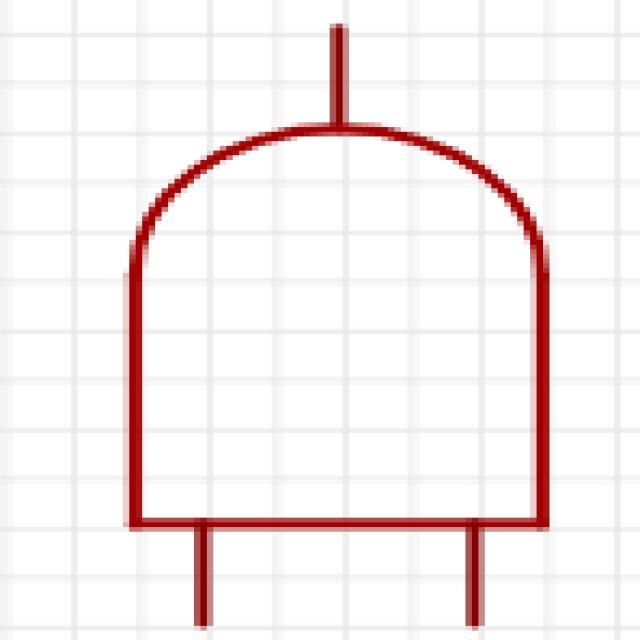and: (93, 18, 583, 640)
